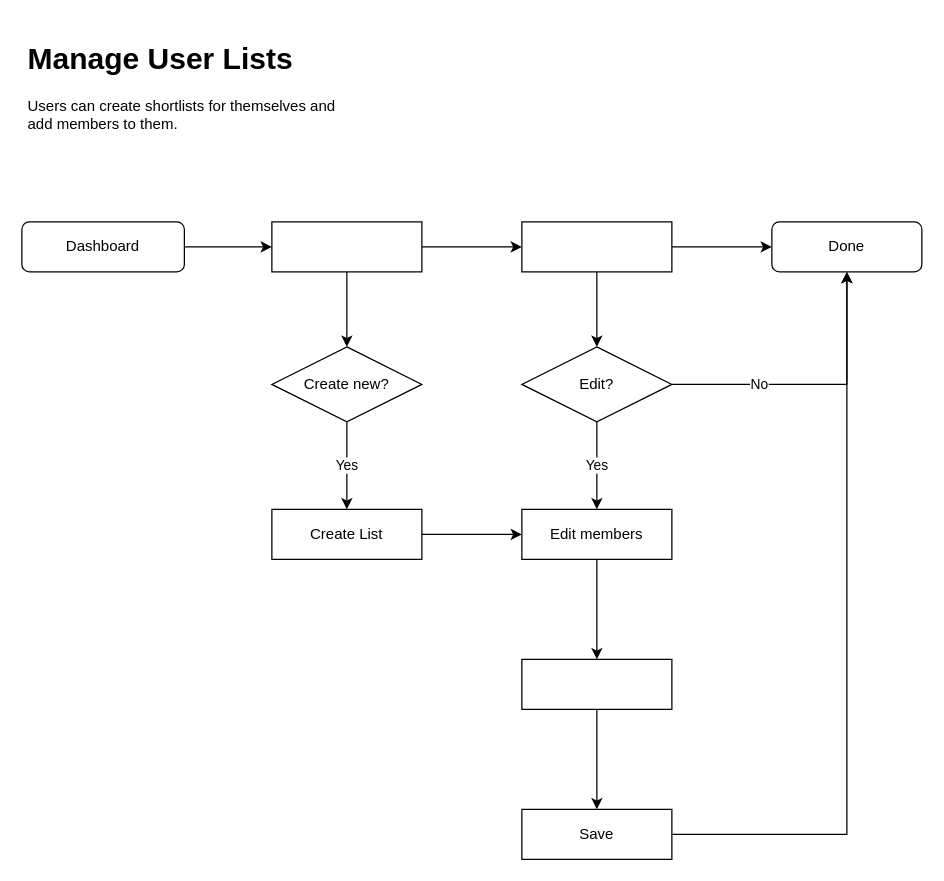
Image size: 944x881. Some labels were removed from this diagram. The shapes that lost their labels are listed below. From the top down, each one's centre as x and y in pixels, then its label:
At point (346, 246): "View all lists".
At point (596, 246): "View single list".
At point (596, 683): "Edit name".
